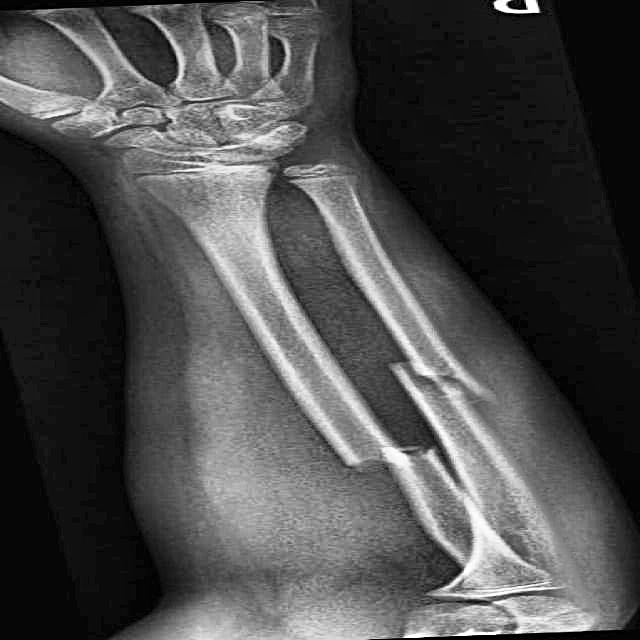Oblique Displaced: (382, 343, 507, 419)
Transverse: (315, 431, 455, 485)
